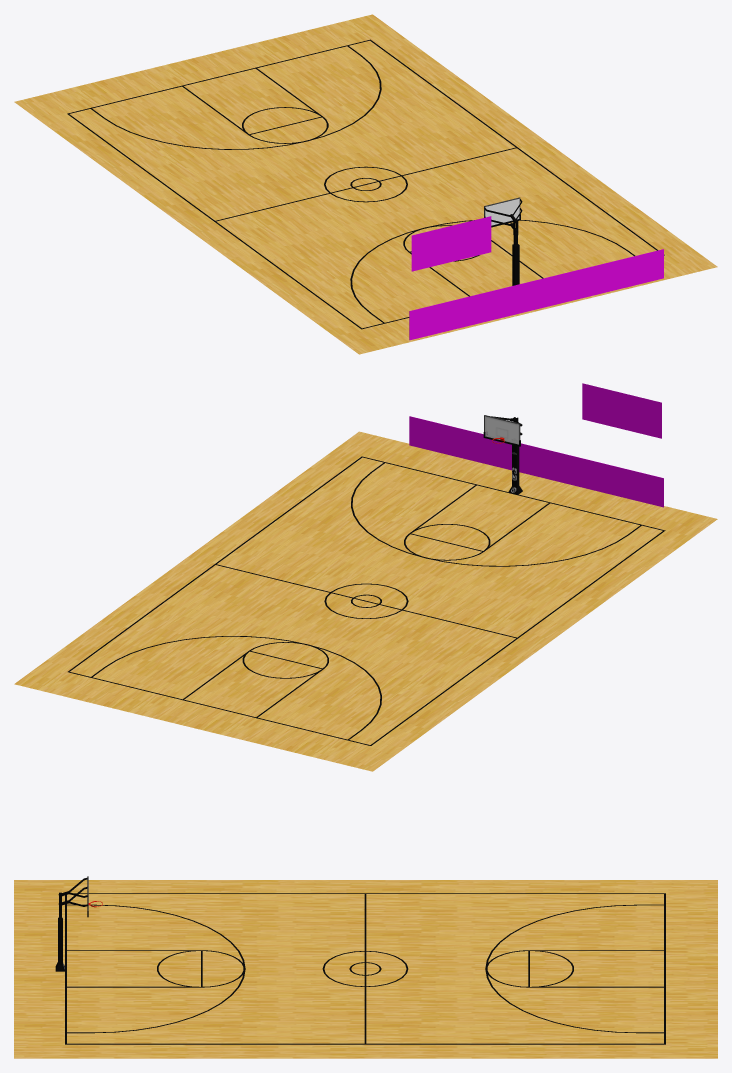
3 renders of one model, top to bottom at view 1: azimuth 30°, elevation 25°; view 2: azimuth 150°, elevation 25°; view 3: azimuth 270°, elevation 25°, orthographic.
Visible parts, largest first — view 1: court_Plane, adstripe_ads, felfestes_lines, scoreboard_Plane.001, backboard_basketball_hoop_body; view 2: court_Plane, adstripe_ads, felfestes_lines, scoreboard_Plane.001, backboard_basketball_hoop_body; view 3: court_Plane, felfestes_lines.
Part boxes in pixels (<box>): court_Plane: <box>14,14,717,354</box>; adstripe_ads: <box>409,249,663,340</box>; felfestes_lines: <box>67,39,664,329</box>; scoreboard_Plane.001: <box>411,216,491,271</box>; backboard_basketball_hoop_body: <box>484,197,520,225</box>; court_Plane: <box>14,431,717,771</box>; adstripe_ads: <box>409,416,663,507</box>; felfestes_lines: <box>68,456,665,745</box>; scoreboard_Plane.001: <box>582,383,661,438</box>; backboard_basketball_hoop_body: <box>484,415,520,444</box>; court_Plane: <box>14,880,717,1058</box>; felfestes_lines: <box>65,893,665,1044</box>.
Bounding box in the file's own units: 18 × 5.01 × 30.
8 materials, 6 textured.
